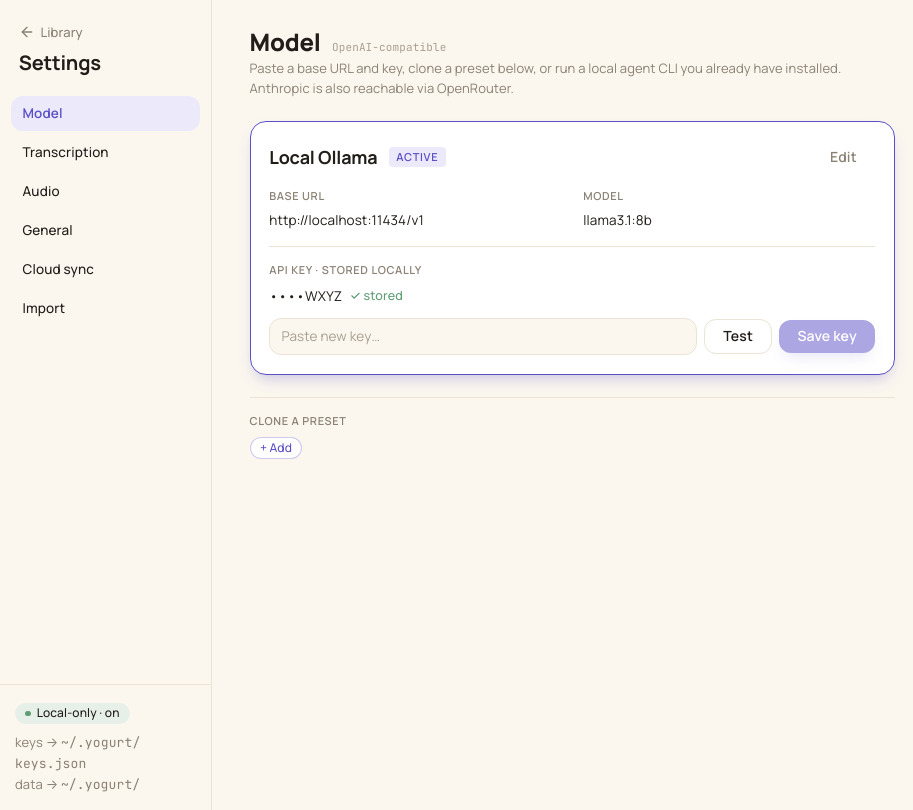
Scenario: Settings routing › clicking a sidebar tab changes the rendered pane
Check: the heading "Model" is shown, box x1=250 y1=30 x2=321 y2=54
Click the button "Audio" at (106, 191), box x1=11 y1=174 x2=200 y2=209
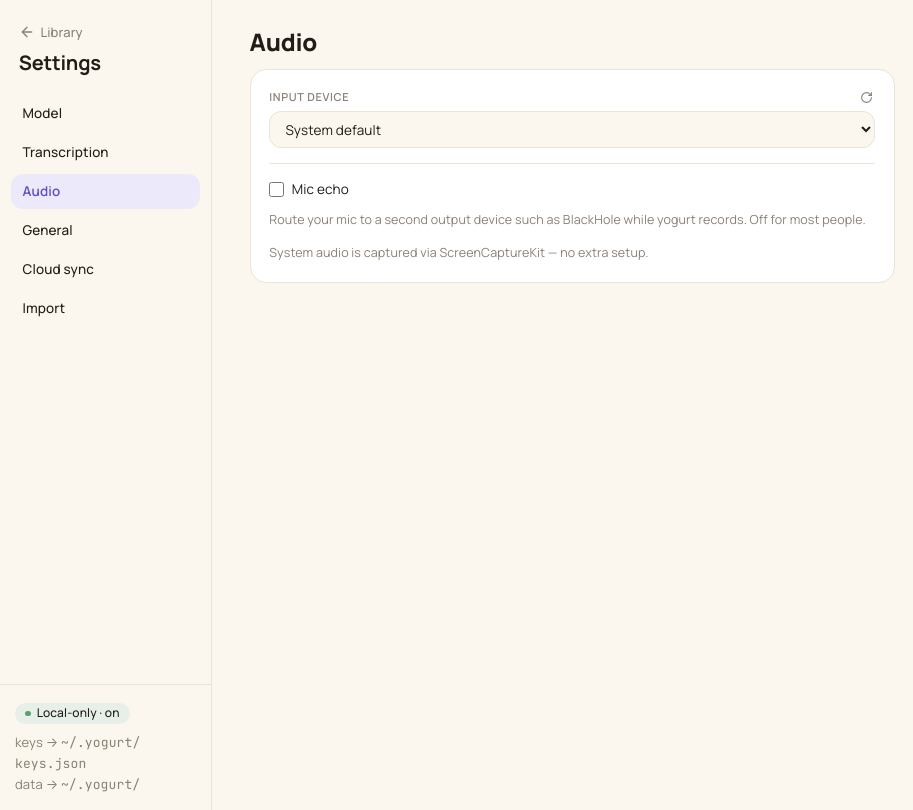
Check: the heading "Audio" is shown, box x1=250 y1=25 x2=317 y2=58
